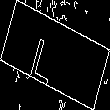L_N: (38, 26, 72, 84)
